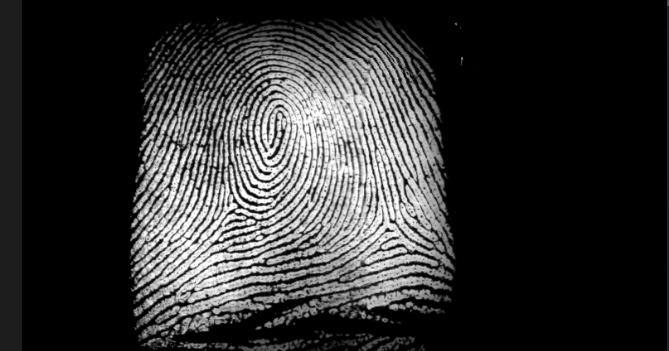nucelo: (256, 98, 295, 161)
verticilo: (371, 206, 401, 238), (218, 192, 247, 217)
